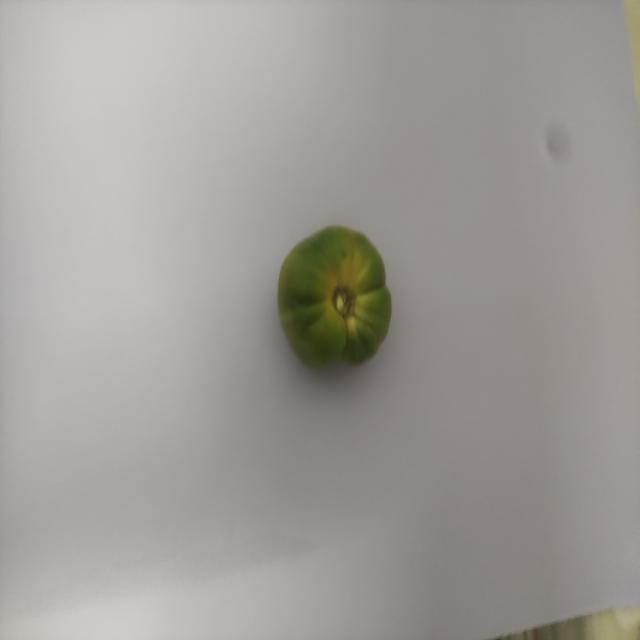yesil: (263, 218, 397, 372)
